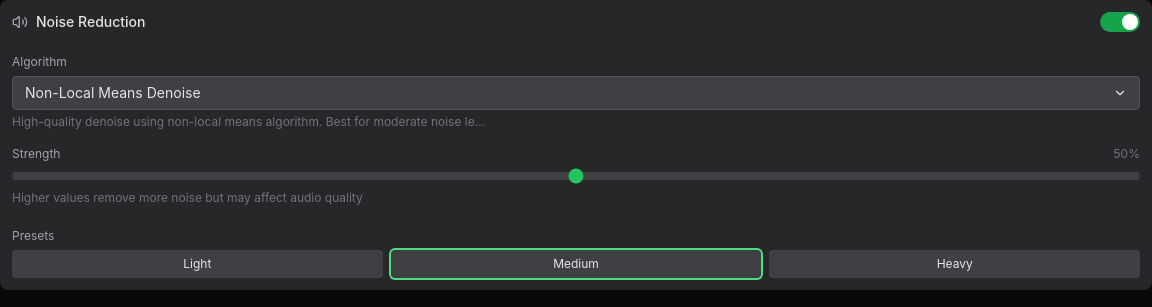
Test case: NoiseReductionControl › algorithm selection › should open algorithm dropdown when clicked
Click the button with test id "algorithm-selector" at (113, 92), box [12,76,1140,110]
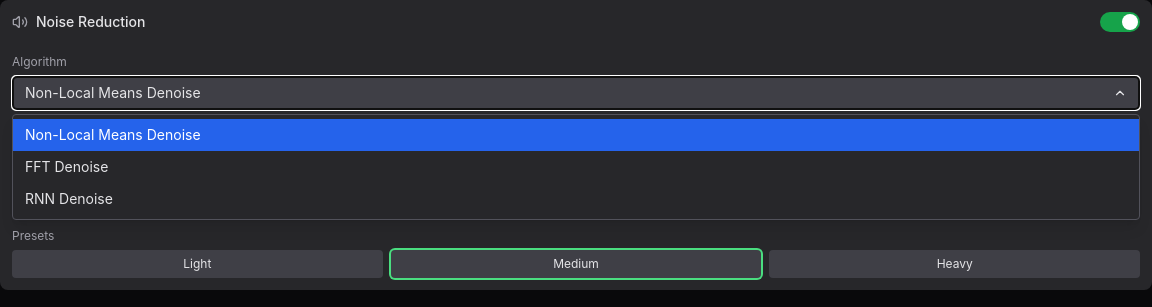
Now the list is shown, box [12,114,1140,220]
